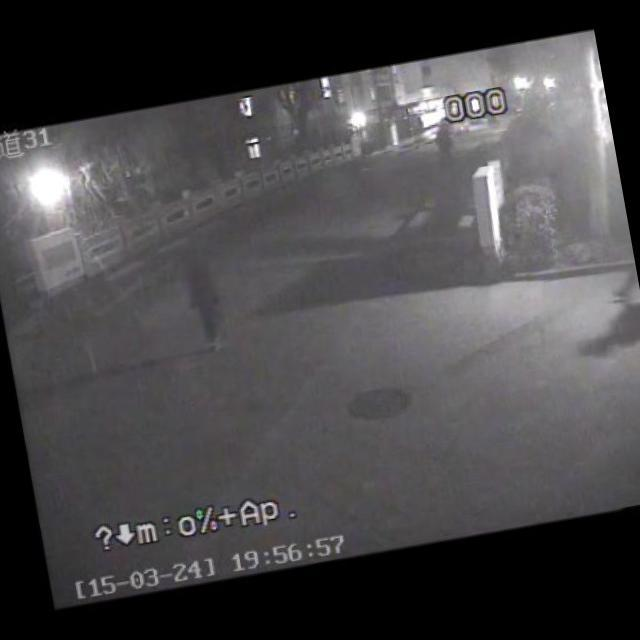person: (177, 244, 230, 356), (428, 121, 462, 176)
